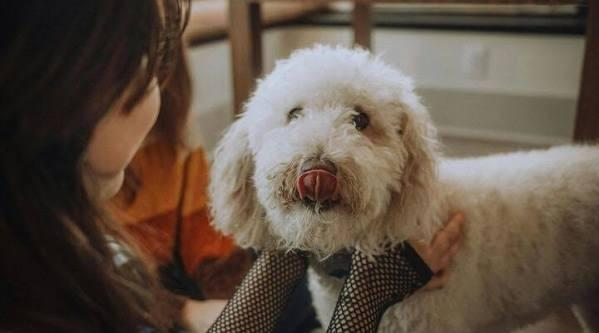adult_dog: (209, 47, 599, 330)
non-dog: (1, 0, 468, 333)
